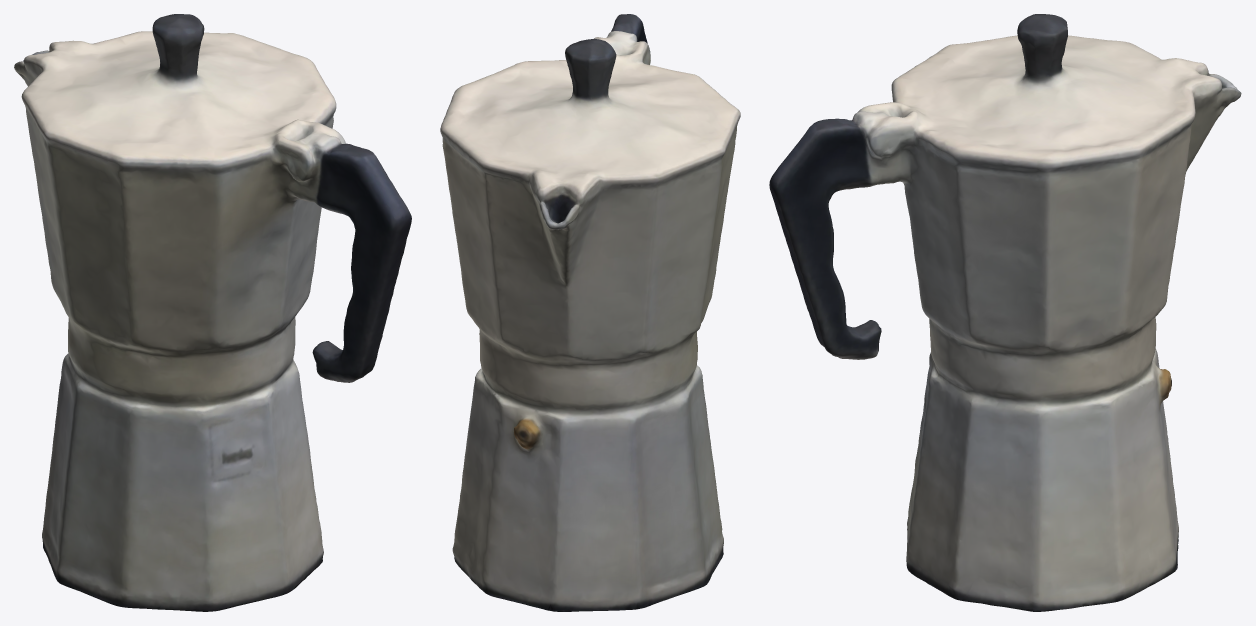
Rendered from mokka.glb.
3 views of the same model, side by side, from view 1: azimuth 30°, elevation 25°; view 2: azimuth 150°, elevation 25°; view 3: azimuth 270°, elevation 25° (orthographic). The views are drawn at different scales.
Parts seen in each view (by area): view 1: geometry_0; view 2: geometry_0; view 3: geometry_0.
Boxes of the visible parts, bbox=[...] form: geometry_0: bbox=[14, 14, 411, 611]; geometry_0: bbox=[440, 14, 740, 611]; geometry_0: bbox=[769, 14, 1241, 611].
Bounding box in the file's own units: 0.6233 × 1.17 × 0.9401.
1 material, 1 textured.
